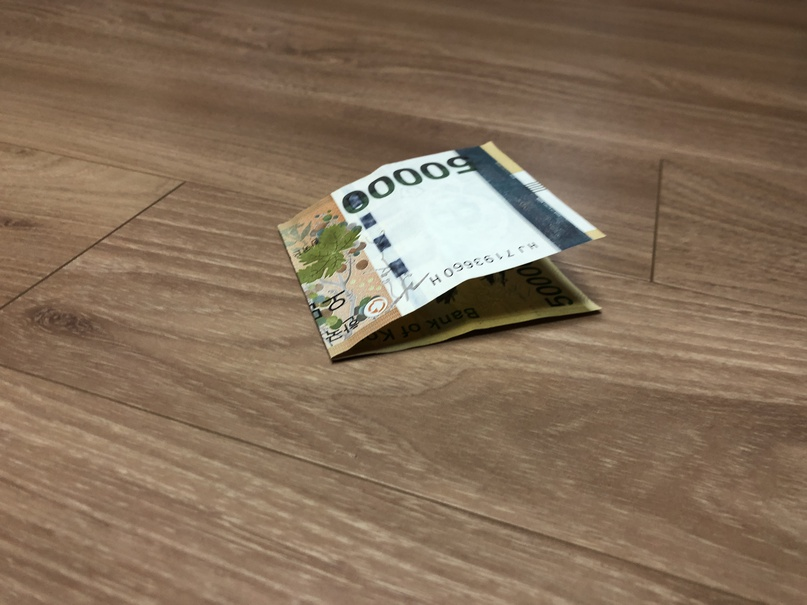50000won: (276, 142, 607, 362)
